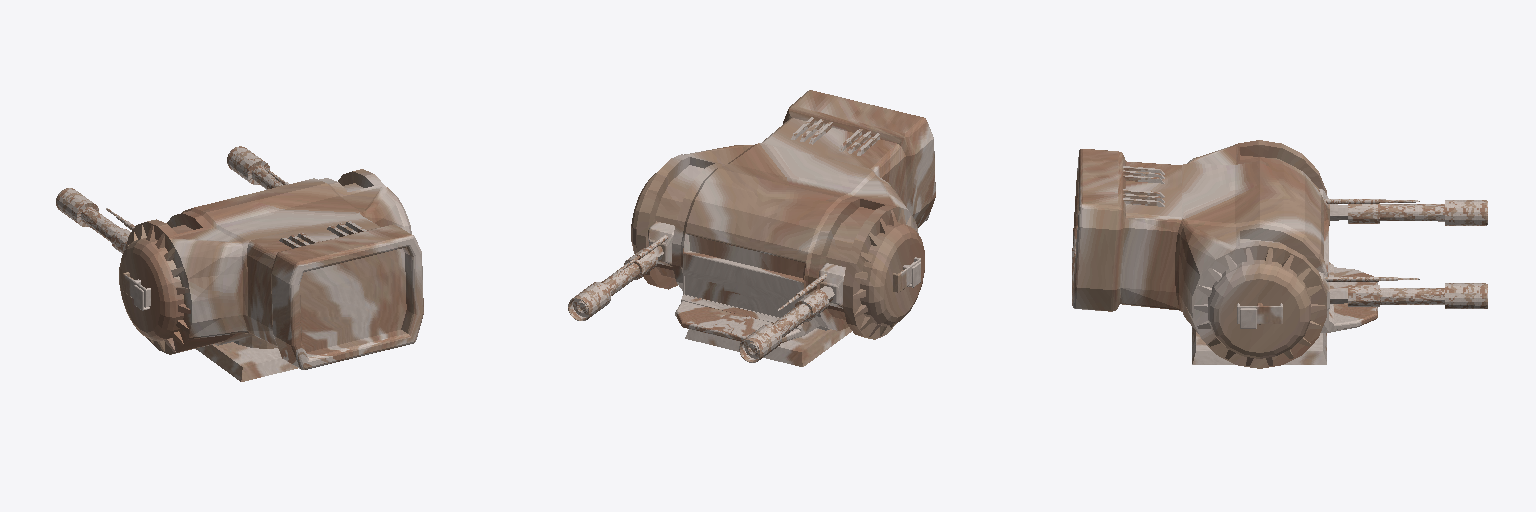
3 renders of one model, left to right at view 1: azimuth 30°, elevation 25°; view 2: azimuth 150°, elevation 25°; view 3: azimuth 270°, elevation 25°, orthographic.
Parts seen in each view (by area): view 1: gun_DBY-827_WEAPON; view 2: gun_DBY-827_WEAPON; view 3: gun_DBY-827_WEAPON.
Boxes of the visible parts, box(x1,y1,x2,y2) form: gun_DBY-827_WEAPON: box(56, 146, 423, 381); gun_DBY-827_WEAPON: box(568, 90, 935, 366); gun_DBY-827_WEAPON: box(1072, 140, 1487, 368).
Size of the model in its own units: 2.25 by 1.28 by 3.02.
Materials: 1 (1 with a texture image).